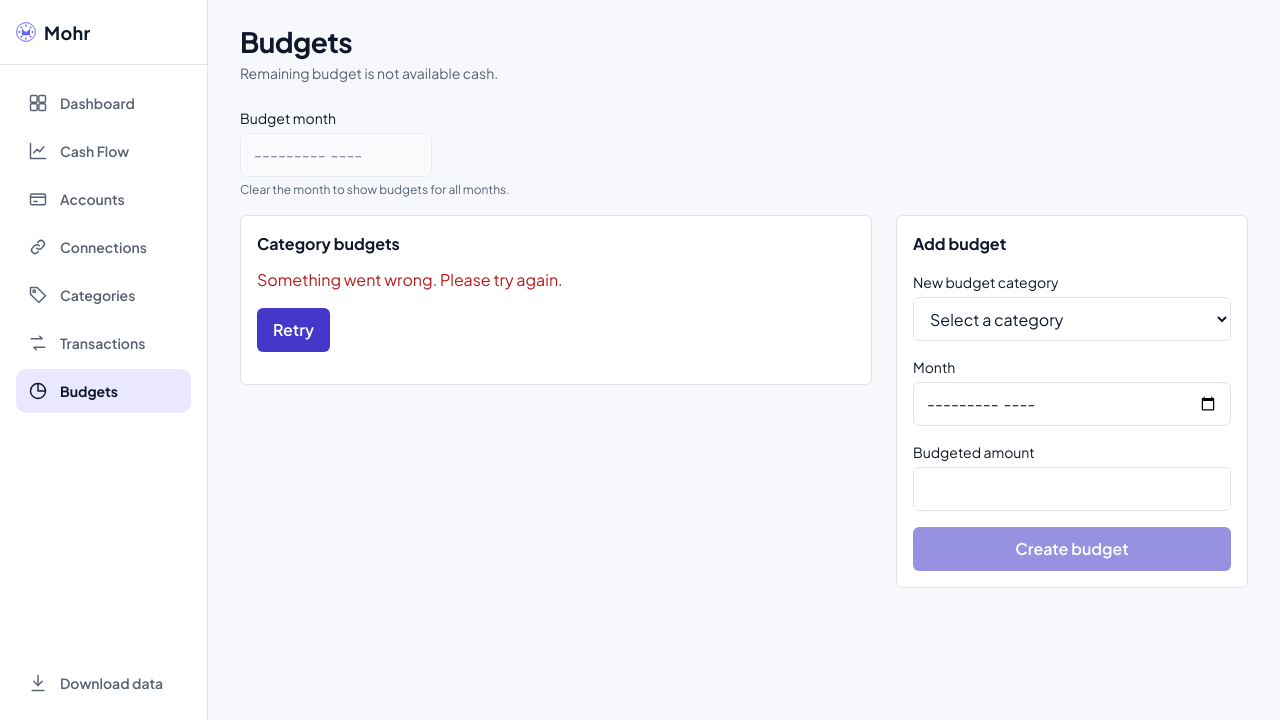
Scenario: budgets list › refetches category metadata after a metadata failure instead of caching the rejection
Expected: the message "Something went wrong. Please try again. Retry" is shown, 257,269 -> 563,352
Click the button "Retry".
click(294, 330)  # box 257,308 -> 330,352
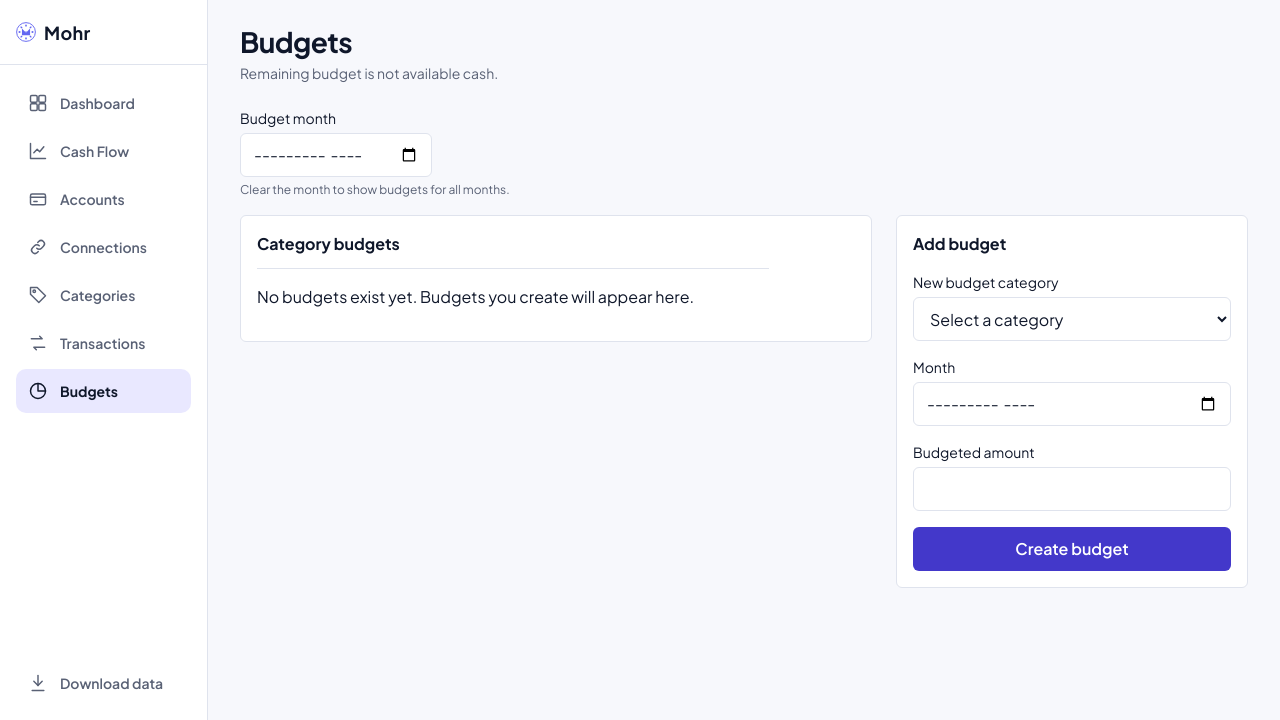
Now the text "No budgets exist yet. Budgets you create will appear here." is shown, box 257,268 -> 769,309
